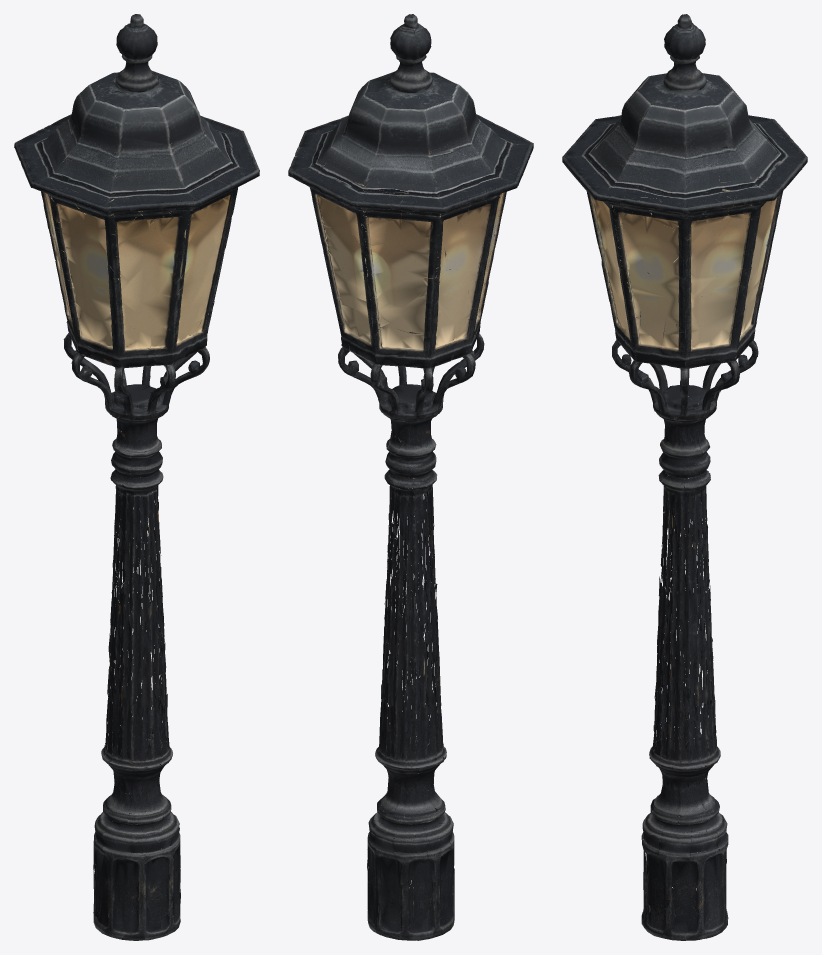
The model's file is lampione_ghisa_lod0.glb.
The picture shows the model from 3 angles, left to right: view 1: azimuth 30°, elevation 25°; view 2: azimuth 150°, elevation 25°; view 3: azimuth 270°, elevation 25°; orthographic projection.
Visible parts, largest first — view 1: Mesh_0; view 2: Mesh_0; view 3: Mesh_0.
Part boxes in pixels (x1,y1,x2,y2): Mesh_0: [14, 14, 259, 940]; Mesh_0: [288, 14, 533, 940]; Mesh_0: [562, 14, 807, 940].
Size of the model in its own units: 0.7344 by 3 by 0.7347.
1 material, 1 textured.
